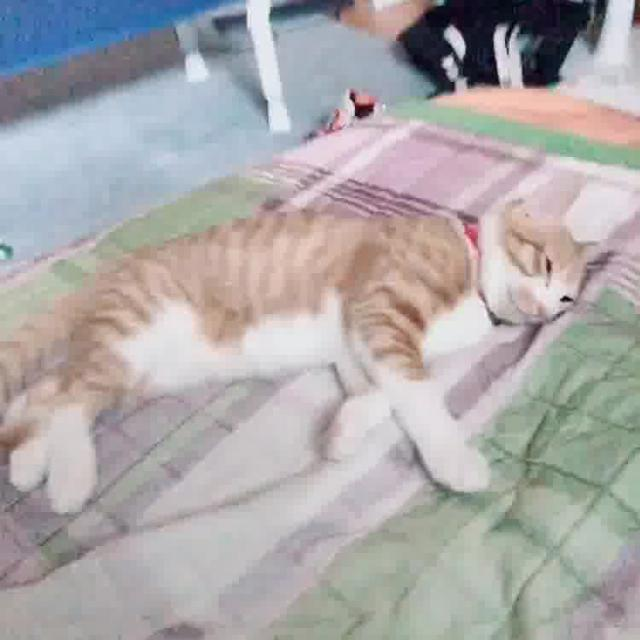cat: (2, 138, 640, 535)
